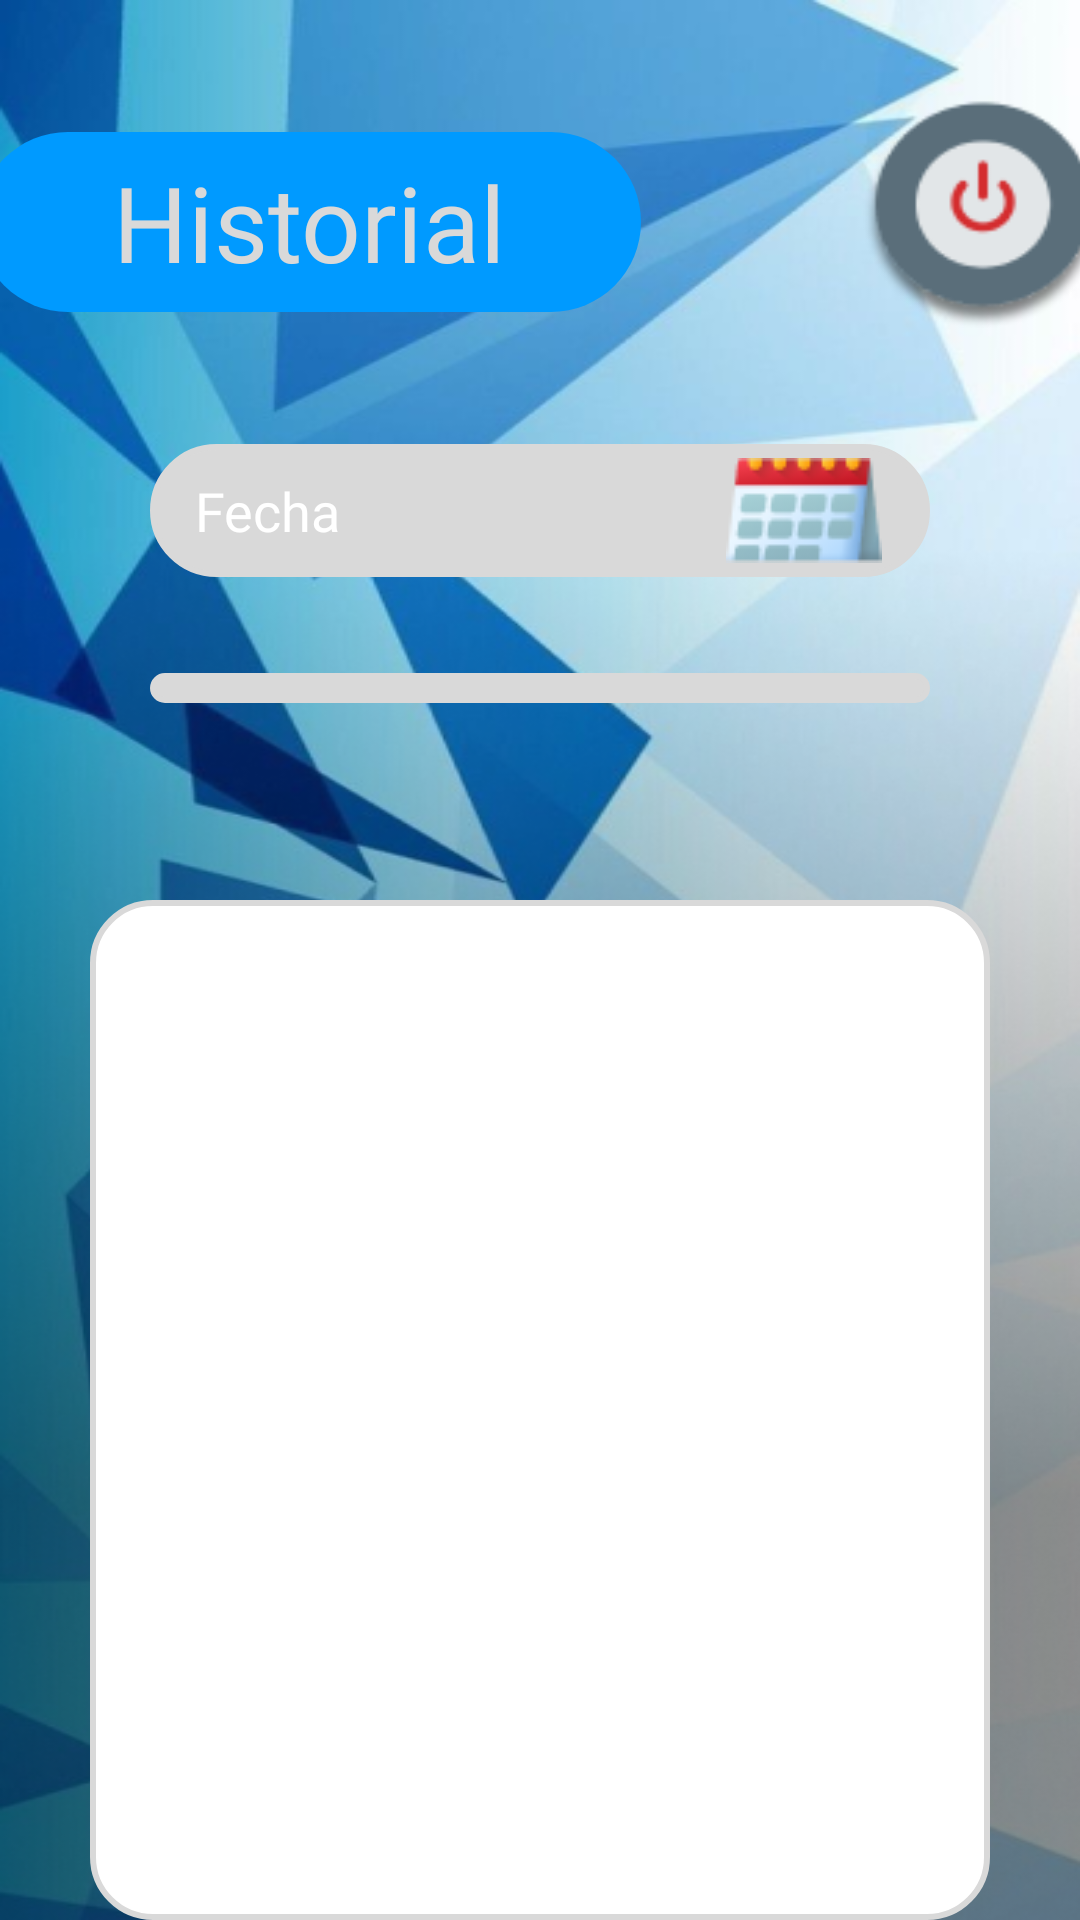

Screen size 1080 × 1920. Icon name, then its center in pixels as (x=x, y=y):
calendario: (x=805, y=510)
off: (x=971, y=216)
